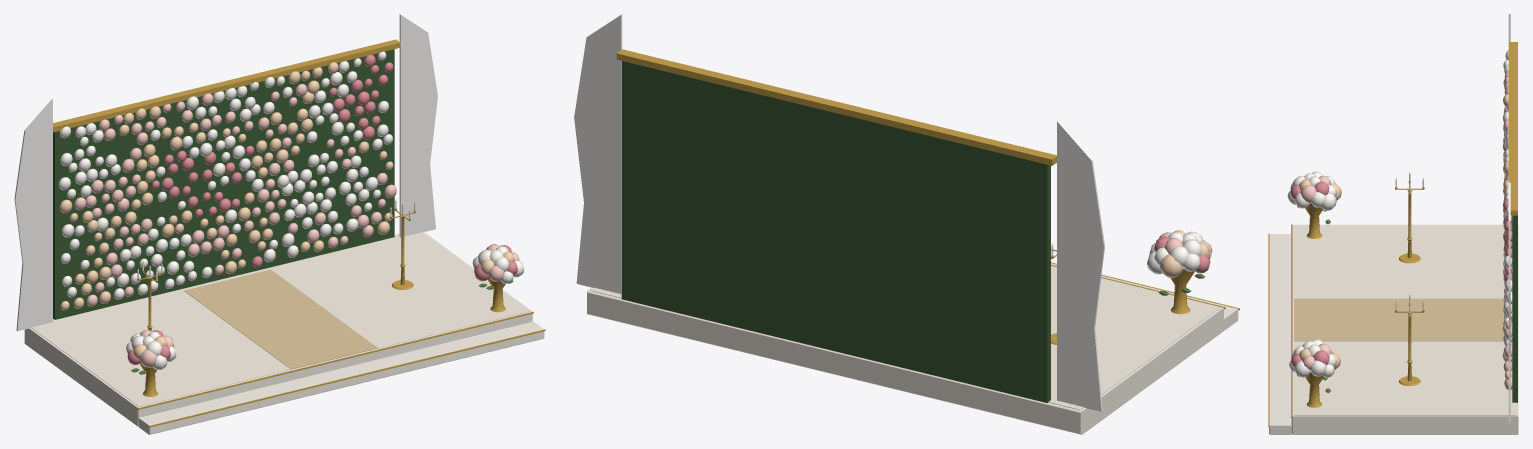
File: altar.glb
3 views of the same model, side by side, from view 1: azimuth 30°, elevation 25°; view 2: azimuth 150°, elevation 25°; view 3: azimuth 270°, elevation 25° (orthographic). The views are drawn at different scales.
Parts seen in each view (by area): view 1: greenery351, carpet347, runner348, ivory346, chiffon353, chiffon354, ivory345, gold352, gold350, gold349; view 2: greenery351, ivory345, chiffon353, chiffon354, carpet347, gold352, gold375; view 3: carpet347, runner348, ivory345, ivory346, gold352, greenery351, chiffon354, gold375, gold403, gold350, gold349, gold366 (+1 smaller).
Part boxes in pixels (bbox=[...]): greenery351: bbox=[53, 49, 394, 319]; carpet347: bbox=[31, 232, 529, 406]; runner348: bbox=[184, 269, 377, 369]; ivory346: bbox=[138, 321, 544, 434]; chiffon353: bbox=[14, 99, 52, 331]; chiffon354: bbox=[399, 14, 437, 237]; ivory345: bbox=[24, 232, 532, 426]; gold352: bbox=[53, 39, 400, 132]; gold350: bbox=[149, 329, 545, 427]; gold349: bbox=[137, 311, 533, 409]; greenery351: bbox=[621, 61, 1050, 402]; ivory345: bbox=[587, 265, 1223, 434]; chiffon353: bbox=[1057, 120, 1104, 411]; chiffon354: bbox=[574, 14, 622, 293]; carpet347: bbox=[590, 266, 1220, 410]; gold352: bbox=[616, 49, 1056, 165]; gold375: bbox=[1170, 268, 1194, 314]; carpet347: bbox=[1294, 225, 1516, 415]; runner348: bbox=[1294, 298, 1504, 341]; ivory345: bbox=[1291, 224, 1518, 434]; ivory346: bbox=[1269, 234, 1291, 434]; gold352: bbox=[1508, 42, 1517, 215]; greenery351: bbox=[1512, 215, 1517, 402]; chiffon354: bbox=[1508, 182, 1510, 422]; gold375: bbox=[1305, 203, 1322, 238]; gold403: bbox=[1305, 372, 1323, 407]; gold350: bbox=[1268, 233, 1269, 427]; gold349: bbox=[1291, 224, 1292, 417]; gold366: bbox=[1407, 312, 1412, 381].
Bounding box in the file's own units: 10.7 × 5.85 × 5.52.
